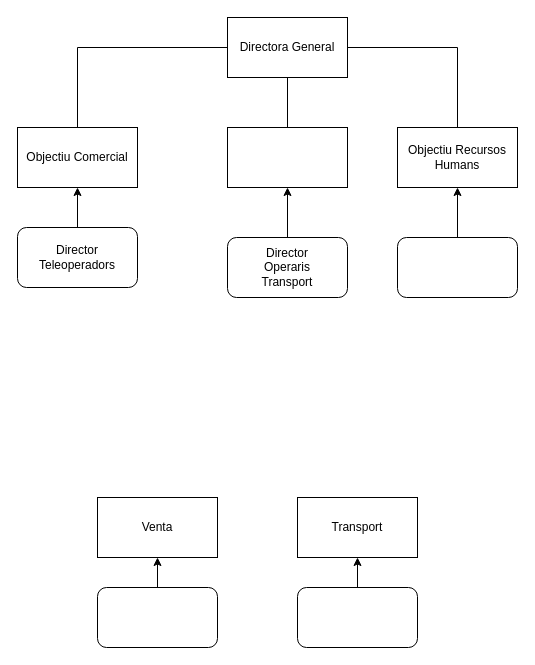
Some shapes in this 535 by 665 pixel diagram are drawn without their labels. The shapes that lost their labels are listed below. From the top down, each one's box as (x1, y1, x2, y2) in pixels, then its label:
(226, 126, 348, 188): Objectiu Compres, Producció i Logística
(396, 236, 518, 298): Director Administratius
(96, 586, 218, 648): Encarregat Venedors
(296, 586, 418, 648): Transportista
